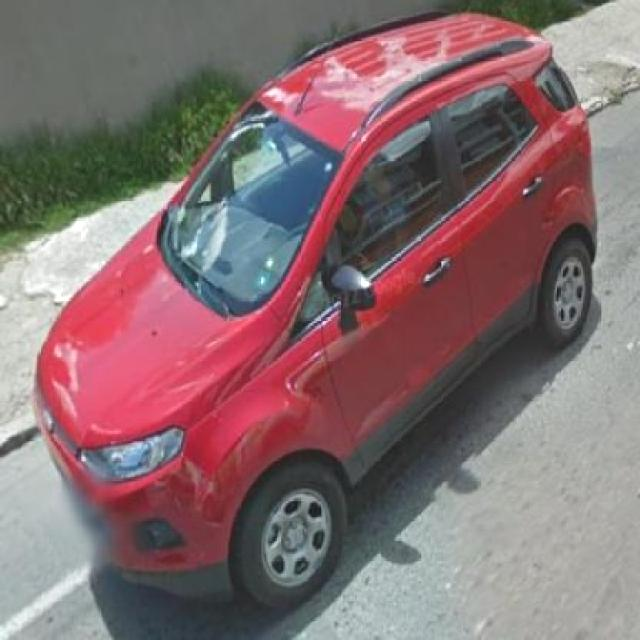car: (31, 21, 605, 627)
